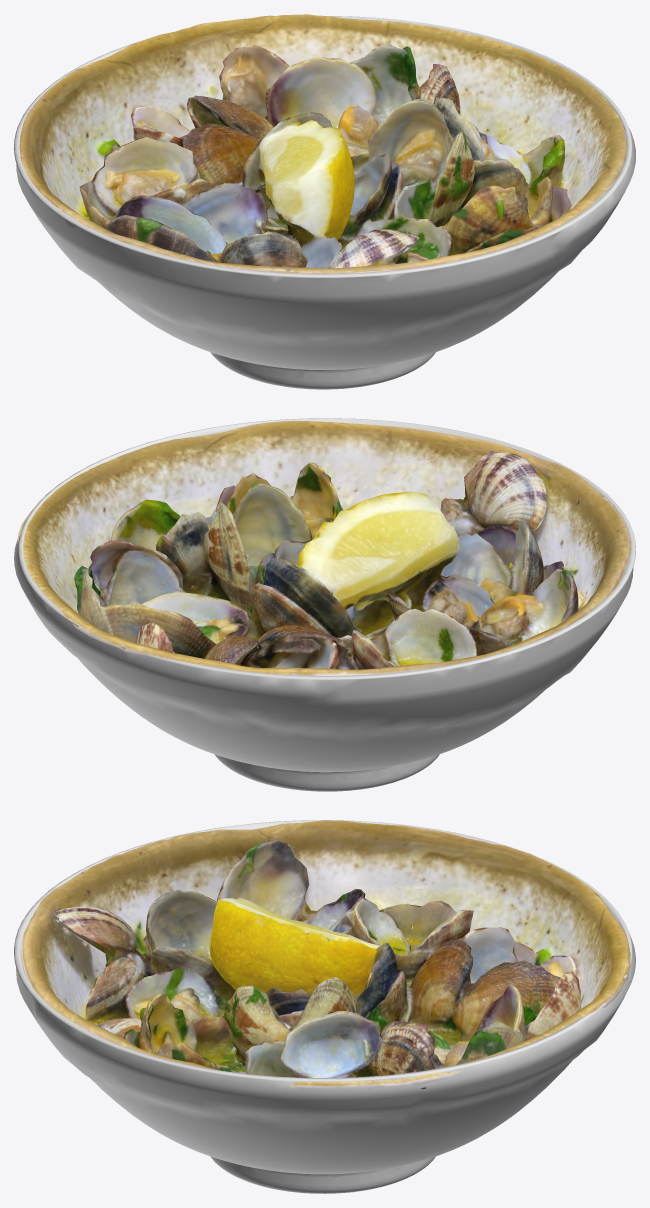
File: AmeijoaBulhaoPato.glb
The picture shows the model from 3 angles, top to bottom: view 1: azimuth 30°, elevation 25°; view 2: azimuth 150°, elevation 25°; view 3: azimuth 270°, elevation 25°; orthographic projection.
Parts seen in each view (by area): view 1: Mesh_0.001, Bowl_Mesh; view 2: Mesh_0.001, Bowl_Mesh; view 3: Mesh_0.001, Bowl_Mesh.
Boxes of the visible parts, bbox=[...] form: Mesh_0.001: bbox=[19, 14, 627, 273]; Bowl_Mesh: bbox=[14, 16, 635, 389]; Mesh_0.001: bbox=[17, 421, 631, 675]; Bowl_Mesh: bbox=[14, 418, 635, 791]; Mesh_0.001: bbox=[21, 820, 630, 1088]; Bowl_Mesh: bbox=[14, 820, 635, 1193].
Size of the model in its own units: 0.1476 by 0.0599 by 0.1475.
2 materials, 1 textured.
